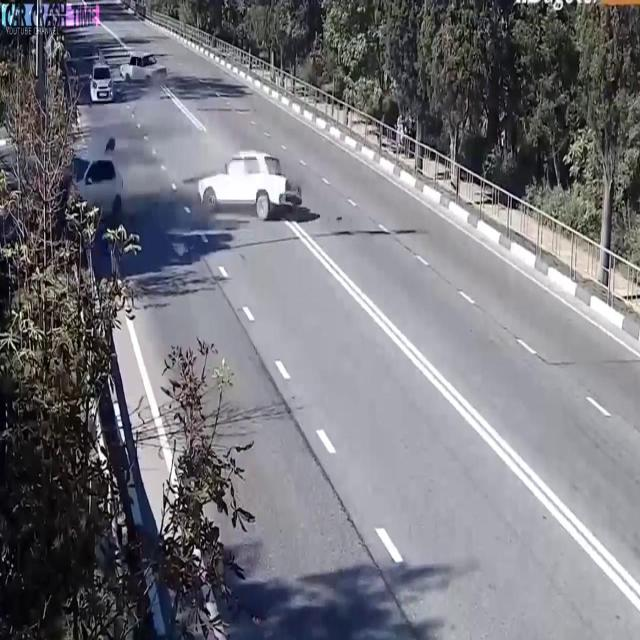accident: (174, 136, 310, 231), (28, 132, 132, 254)
non_accident: (83, 40, 173, 109)
